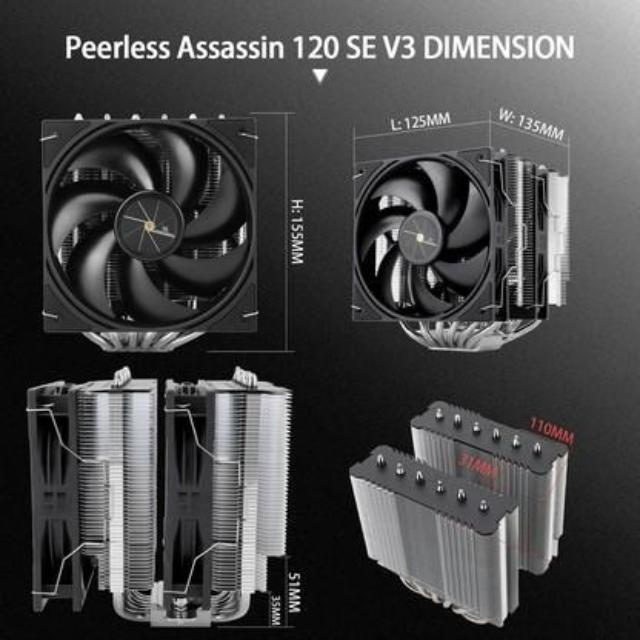CPU_Fan: (23, 368, 302, 626), (352, 382, 572, 632), (36, 113, 261, 355), (351, 153, 571, 353)
